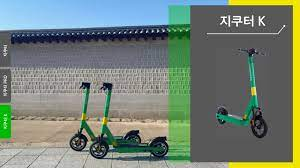kick_board: (216, 47, 267, 138)
kick_body: (118, 142, 148, 152), (226, 114, 243, 124)
kick_handler: (239, 47, 267, 56), (78, 81, 89, 89), (101, 82, 112, 89)
kick_neck: (248, 59, 259, 106), (102, 95, 111, 134), (79, 94, 88, 129)
kick_wheel: (250, 115, 267, 138), (91, 140, 108, 158), (149, 141, 167, 158), (70, 134, 86, 151), (217, 107, 227, 124)
